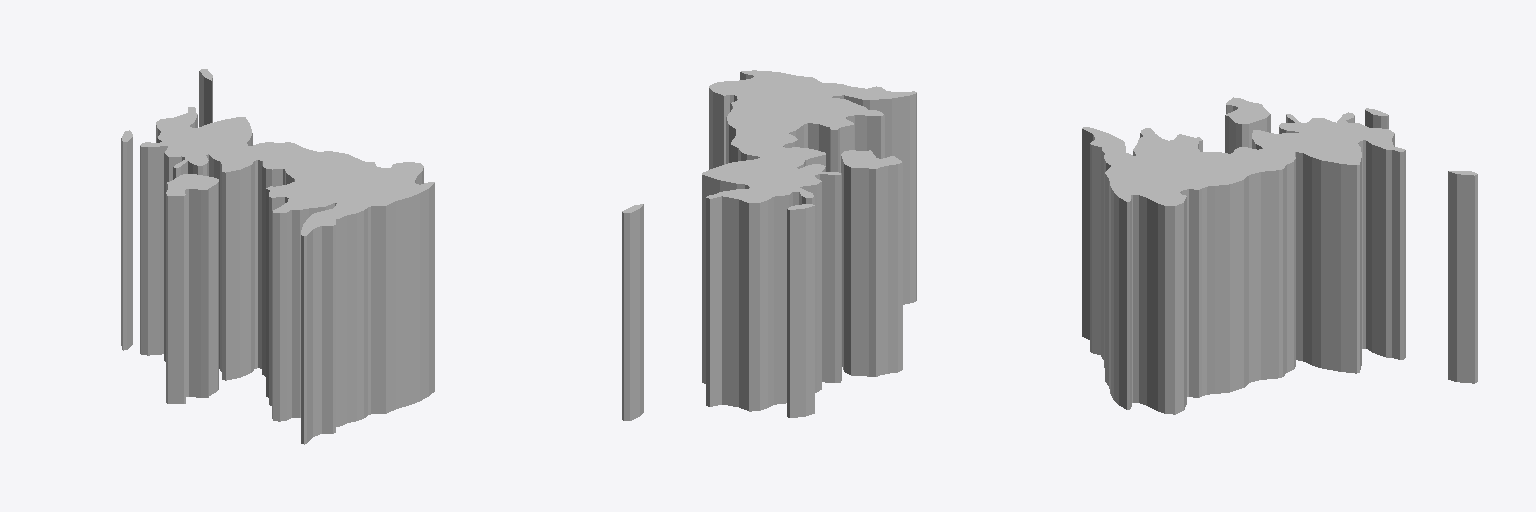
3 views of the same model, side by side, from view 1: azimuth 30°, elevation 25°; view 2: azimuth 150°, elevation 25°; view 3: azimuth 270°, elevation 25° (orthographic).
Parts seen in each view (by area): view 1: GB.002_CUCurve.1754; view 2: GB.002_CUCurve.1754; view 3: GB.002_CUCurve.1754.
Part boxes in pixels (bbox=[...]): GB.002_CUCurve.1754: bbox=[121, 69, 434, 444]; GB.002_CUCurve.1754: bbox=[622, 70, 916, 420]; GB.002_CUCurve.1754: bbox=[1082, 97, 1477, 414].
Bounding box in the file's own units: 0.0562 × 0.05 × 0.0861.